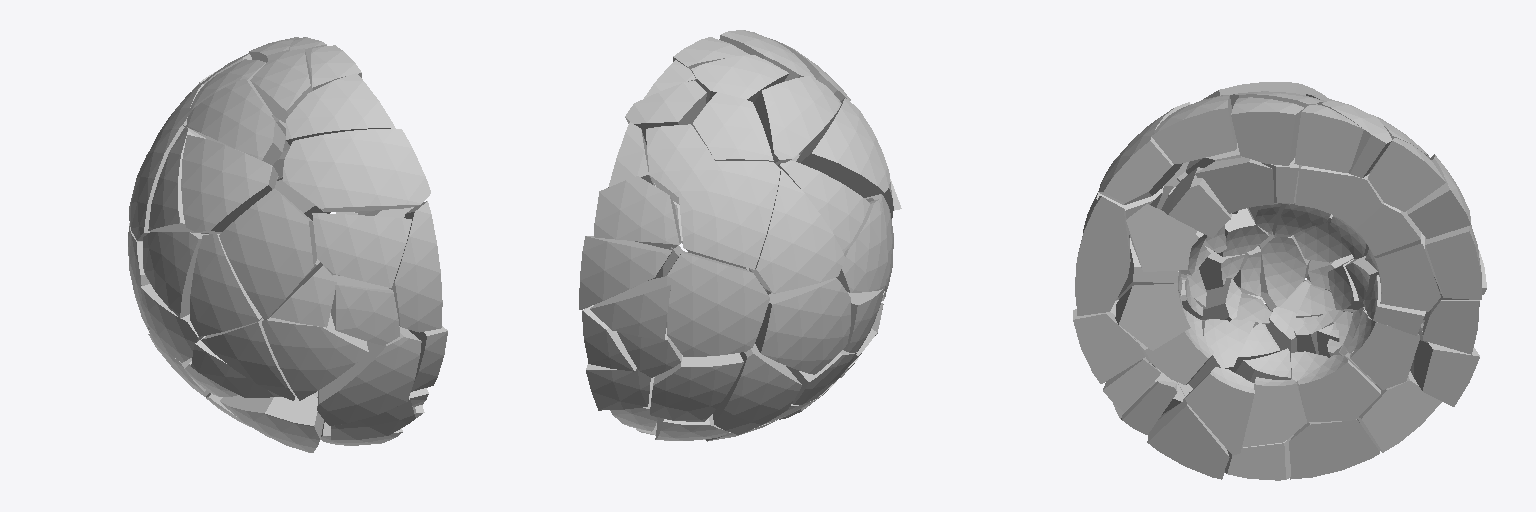
The model's file is shatter_2.obj.
The picture shows the model from 3 angles: view 1: azimuth 30°, elevation 25°; view 2: azimuth 150°, elevation 25°; view 3: azimuth 270°, elevation 25°; orthographic projection.
Size of the model in its own units: 12.03 by 20.77 by 21.02.